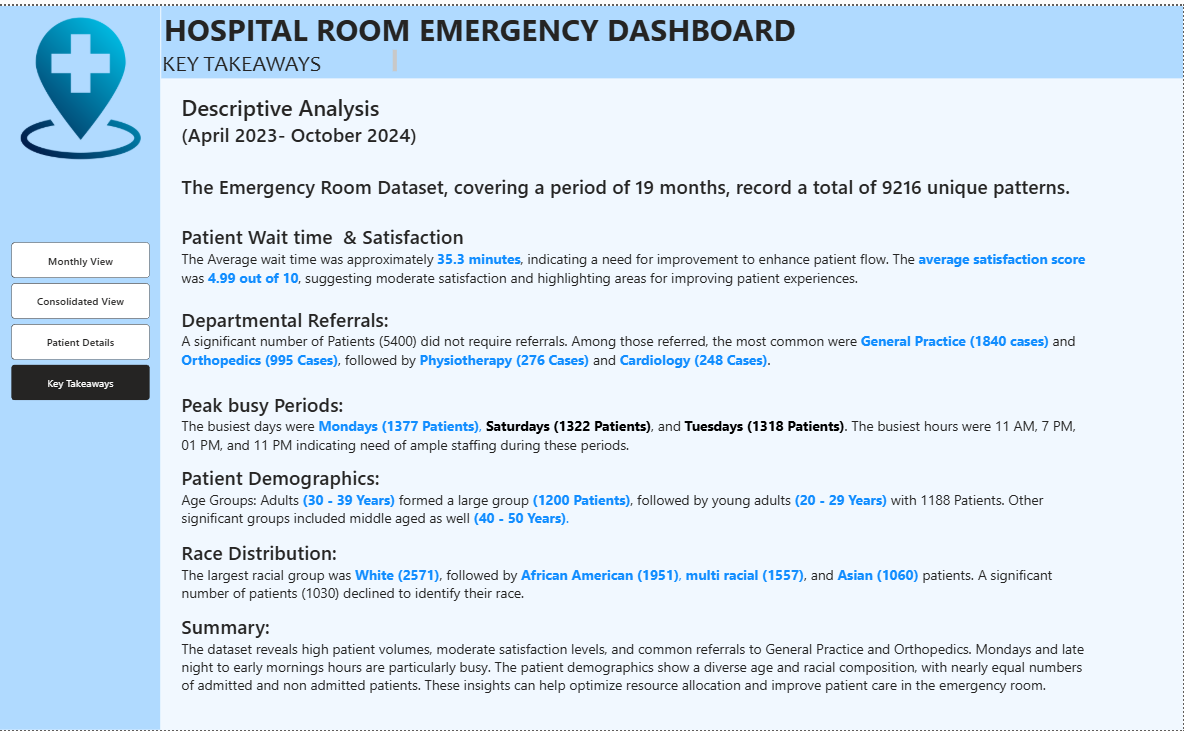

The page's visual inventory and layout, read from the dashboard file:
{"tool":"powerbi","page":{"name":"Key Takeaways","canvas":[2300,1400],"ordinal":3},"visuals":[{"type":"shape","box":[9.9,0,310,1400.5],"z":0},{"type":"shape","box":[320.5,0,1980,140],"z":1000},{"type":"textbox","box":[320.5,0,1262.4,108.5],"z":2000},{"type":"textbox","box":[319.5,80.5,463.4,56.1],"z":3000},{"type":"image","box":[22,17.1,287.8,285.4],"z":4000},{"type":"textbox","box":[356.1,161,751.2,141.5],"z":5000},{"type":"textbox","box":[356.1,302.4,1775.6,97.6],"z":6000},{"type":"textbox","box":[356.1,400,1800,178],"z":7000},{"type":"textbox","box":[356.1,575.6,1775.6,163.4],"z":8000},{"type":"textbox","box":[356.1,739,1775.6,143.9],"z":9000},{"type":"textbox","box":[356.1,882.9,1775.6,146.3],"z":10000},{"type":"textbox","box":[356.1,1029.3,1775.6,165.9],"z":11000},{"type":"textbox","box":[356.1,1170.7,1775.6,165.9],"z":12000},{"type":"pageNavigator","box":[31.7,456.1,268.3,309.8],"z":13000}]}

Visuals, with their boxes in screenshot pixels (x1, y1, x2, y2), scaled from the page's 2300x1400 canvas onto the 1184x731 screenshot:
shape: detection(5, 0, 165, 730)
shape: detection(165, 0, 1183, 73)
textbox: detection(165, 0, 815, 57)
textbox: detection(164, 42, 403, 71)
image: detection(11, 9, 159, 158)
textbox: detection(183, 84, 570, 158)
textbox: detection(183, 158, 1097, 209)
textbox: detection(183, 209, 1110, 302)
textbox: detection(183, 301, 1097, 386)
textbox: detection(183, 386, 1097, 461)
textbox: detection(183, 461, 1097, 537)
textbox: detection(183, 537, 1097, 624)
textbox: detection(183, 611, 1097, 698)
pageNavigator: detection(16, 238, 154, 400)
